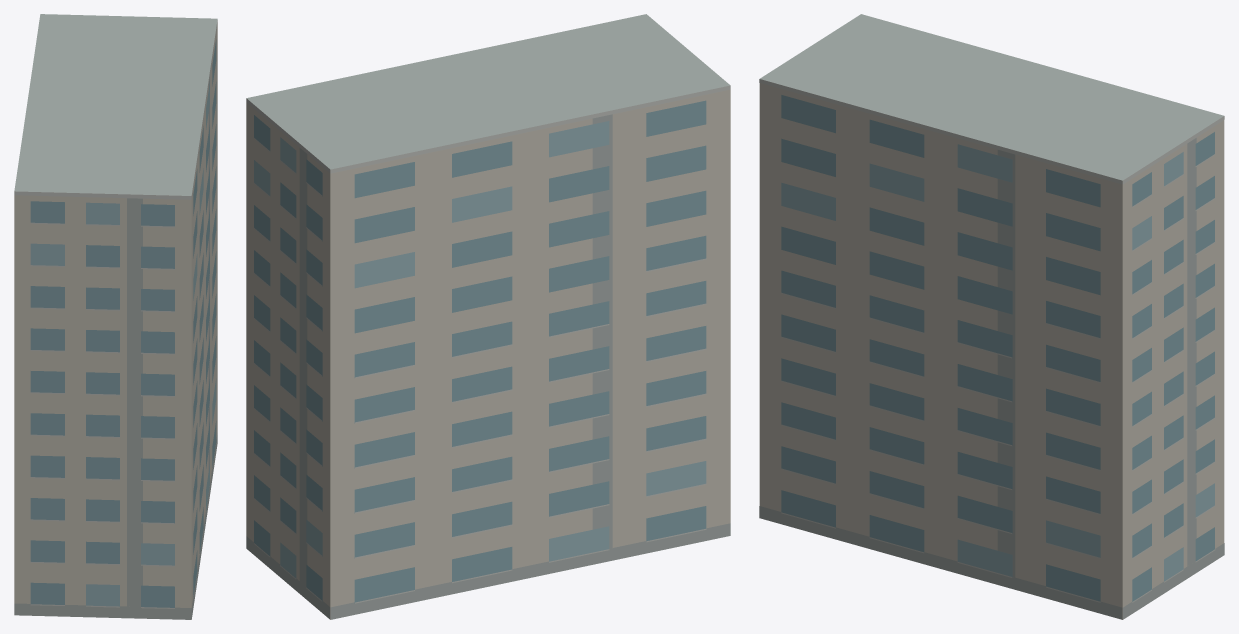
Rendered from residential-310c4d95-52f9-45d0-ae02-bf86b3f8b6e1.glb.
3 renders of one model, left to right at view 1: azimuth 30°, elevation 25°; view 2: azimuth 150°, elevation 25°; view 3: azimuth 270°, elevation 25°, orthographic. The views are drawn at different scales.
Parts seen in each view (by area): view 1: residential-310c4d95-52f9-45d0-ae02-bf86b3f8b6e1.tmp; view 2: residential-310c4d95-52f9-45d0-ae02-bf86b3f8b6e1.tmp; view 3: residential-310c4d95-52f9-45d0-ae02-bf86b3f8b6e1.tmp.
Part boxes in pixels (x1,y1,x2,y2): residential-310c4d95-52f9-45d0-ae02-bf86b3f8b6e1.tmp: [14, 14, 217, 619]; residential-310c4d95-52f9-45d0-ae02-bf86b3f8b6e1.tmp: [246, 14, 730, 619]; residential-310c4d95-52f9-45d0-ae02-bf86b3f8b6e1.tmp: [759, 14, 1224, 619].
Bounding box in the file's own units: 21.98 × 27 × 25.91.
